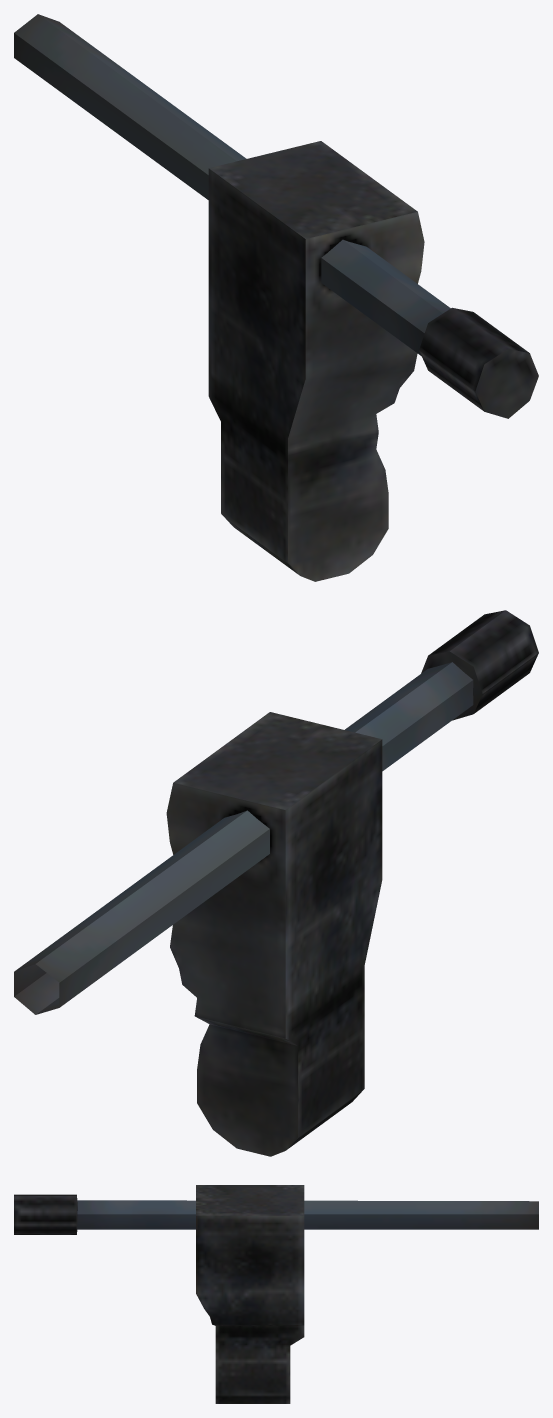
File: meh.obj
3 renders of one model, top to bottom at view 1: azimuth 30°, elevation 25°; view 2: azimuth 150°, elevation 25°; view 3: azimuth 270°, elevation 25°, orthographic. The views are drawn at different scales.
Visible parts, largest first — view 1: wpn_revolver; view 2: wpn_revolver; view 3: wpn_revolver.
Boxes of the visible parts, <box> form: wpn_revolver: <box>14,14,538,581</box>; wpn_revolver: <box>14,610,538,1156</box>; wpn_revolver: <box>14,1185,538,1403</box>.
Bounding box in the file's own units: 0.0144 × 0.0419 × 0.0986.
